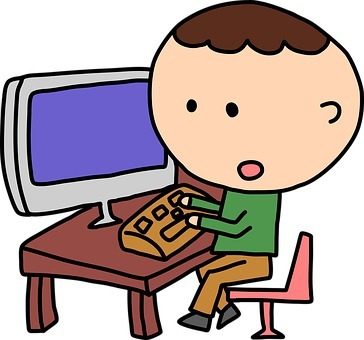chair: (227, 230, 315, 338)
person: (146, 1, 364, 332)
tvmonitor: (1, 65, 183, 232)
